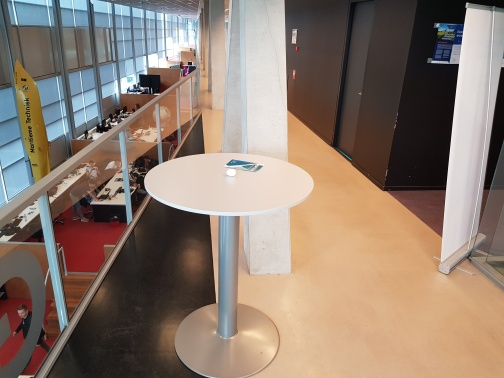egg: (224, 167, 237, 177)
